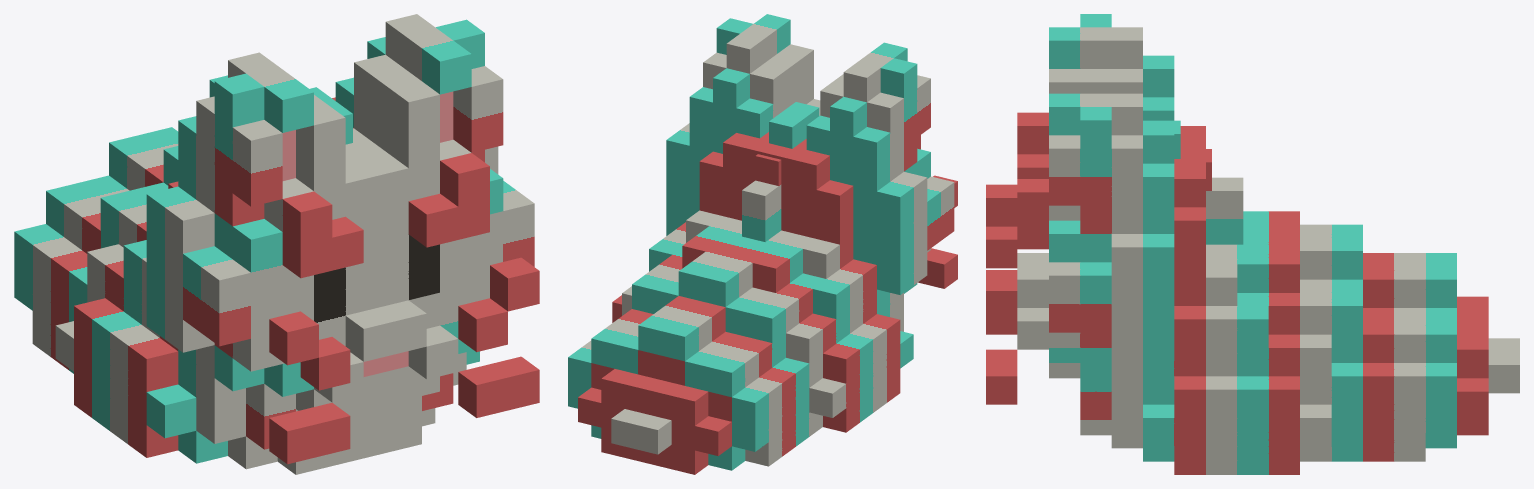
The model's file is skin_caramel_1.fbx.
3 views of the same model, side by side, from view 1: azimuth 30°, elevation 25°; view 2: azimuth 150°, elevation 25°; view 3: azimuth 270°, elevation 25° (orthographic). The views are drawn at different scales.
Parts seen in each view (by area): view 1: skin_9-5, skin_9-0; view 2: skin_9-5, skin_9-0; view 3: skin_9-5, skin_9-0.
Boxes of the visible parts, x1=… form: skin_9-5: x1=14, y1=14, x2=539, y2=474; skin_9-0: x1=310, y1=87, x2=352, y2=144; skin_9-5: x1=568, y1=14, x2=957, y2=474; skin_9-0: x1=742, y1=102, x2=819, y2=241; skin_9-5: x1=986, y1=14, x2=1519, y2=474; skin_9-0: x1=1143, y1=120, x2=1243, y2=244.
Size of the model in its own units: 100 by 121 by 170.
1 material, 1 textured.
